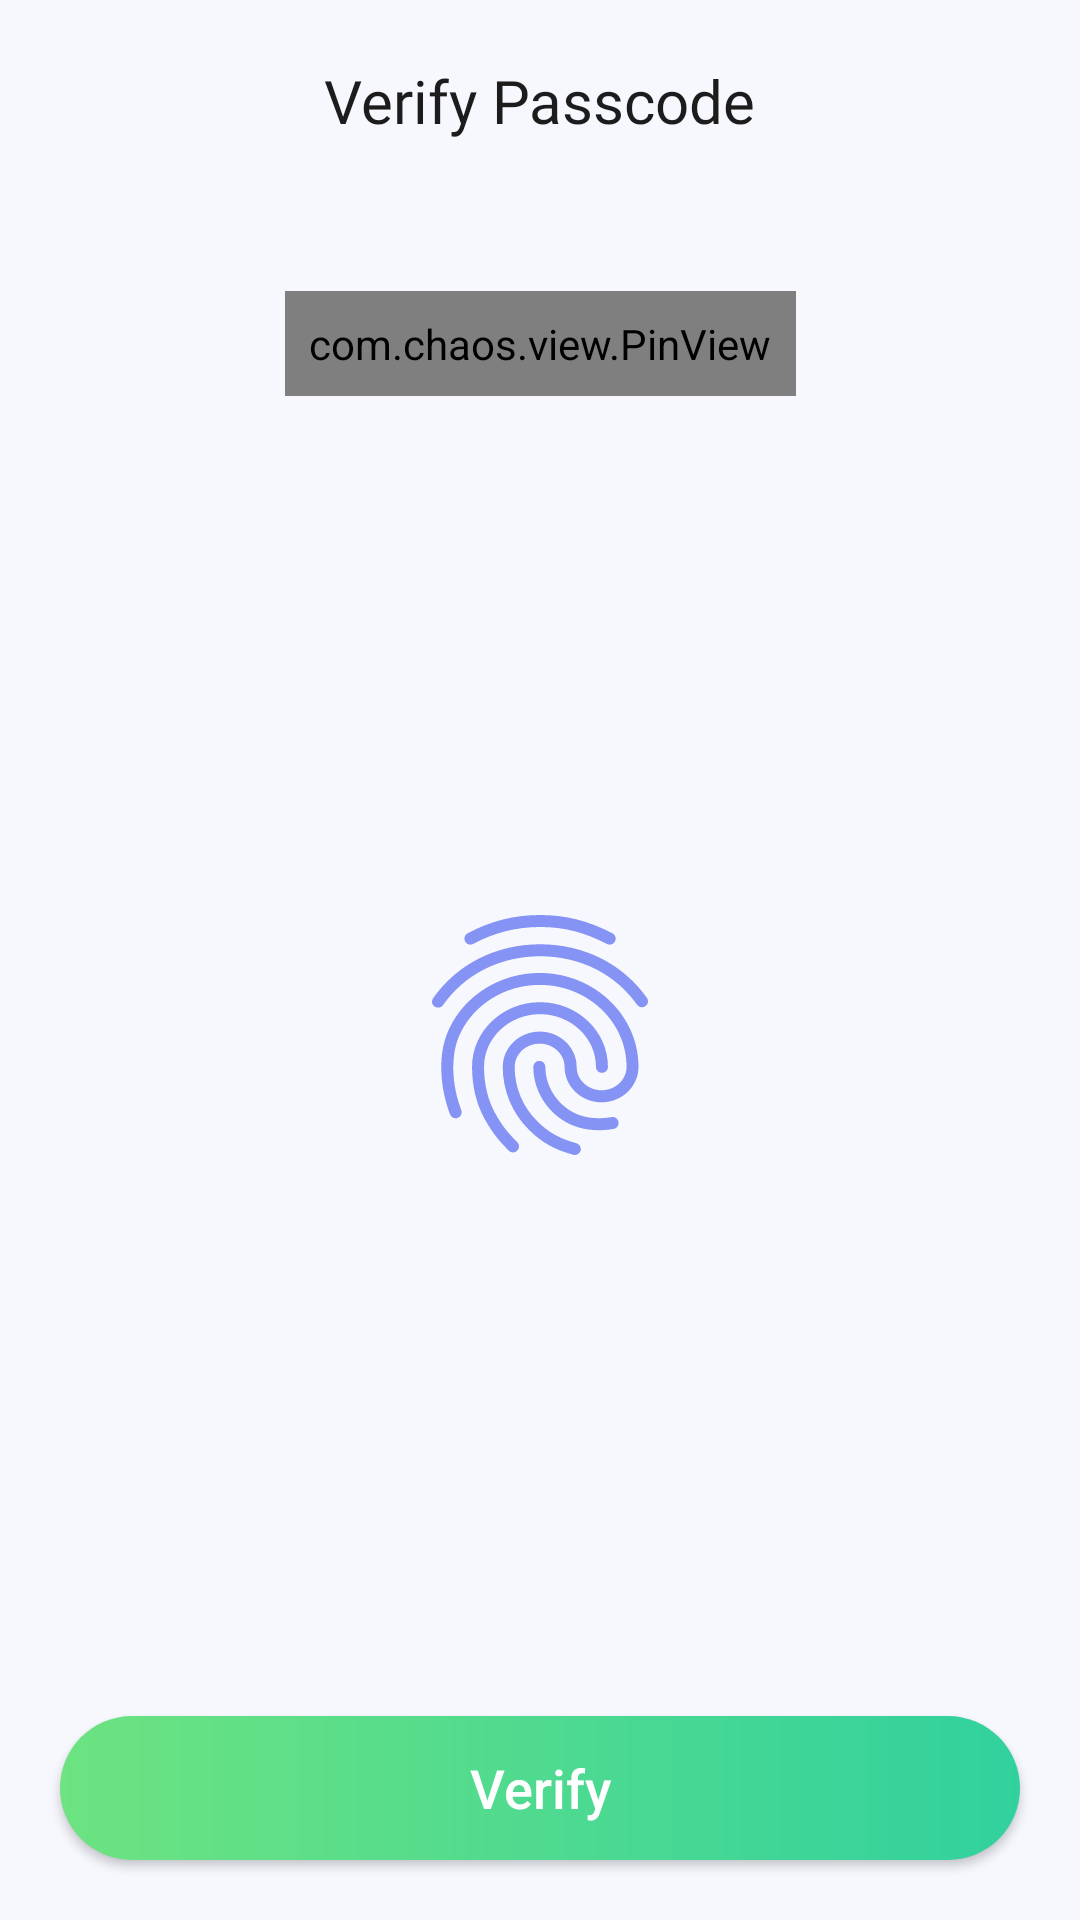

Where icons sit on this 1080 × 1920 app screen, as rect(x1, y1, x2, y2):
fingerprint: rect(432, 915, 648, 1155)
